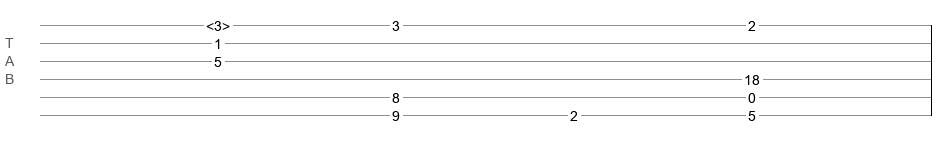0: (748, 90, 756, 100)
1: (214, 36, 222, 46)
18: (744, 72, 760, 82)
2: (570, 108, 578, 118), (748, 18, 756, 28)
3: (392, 18, 400, 28)
5: (214, 54, 222, 64), (748, 108, 756, 118)
8: (392, 90, 400, 100)
9: (392, 108, 400, 118)
harmonic: (206, 18, 230, 28)
